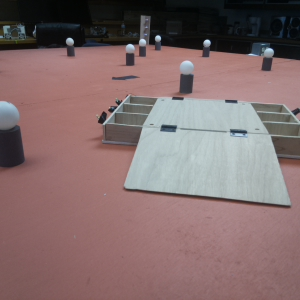obstacle: (1, 100, 27, 168), (178, 60, 193, 94), (260, 48, 273, 74), (125, 44, 134, 65), (66, 38, 74, 57), (202, 40, 210, 58), (155, 35, 161, 51)
slope: (124, 127, 291, 211)
